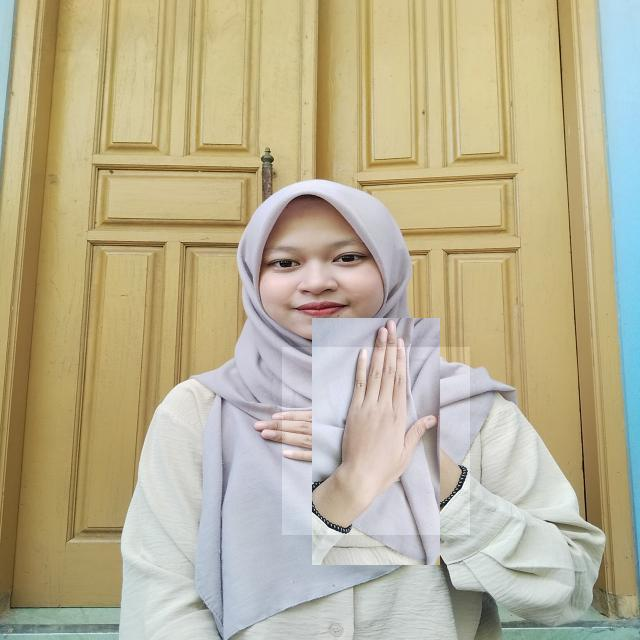tolong: (282, 347, 470, 535)
